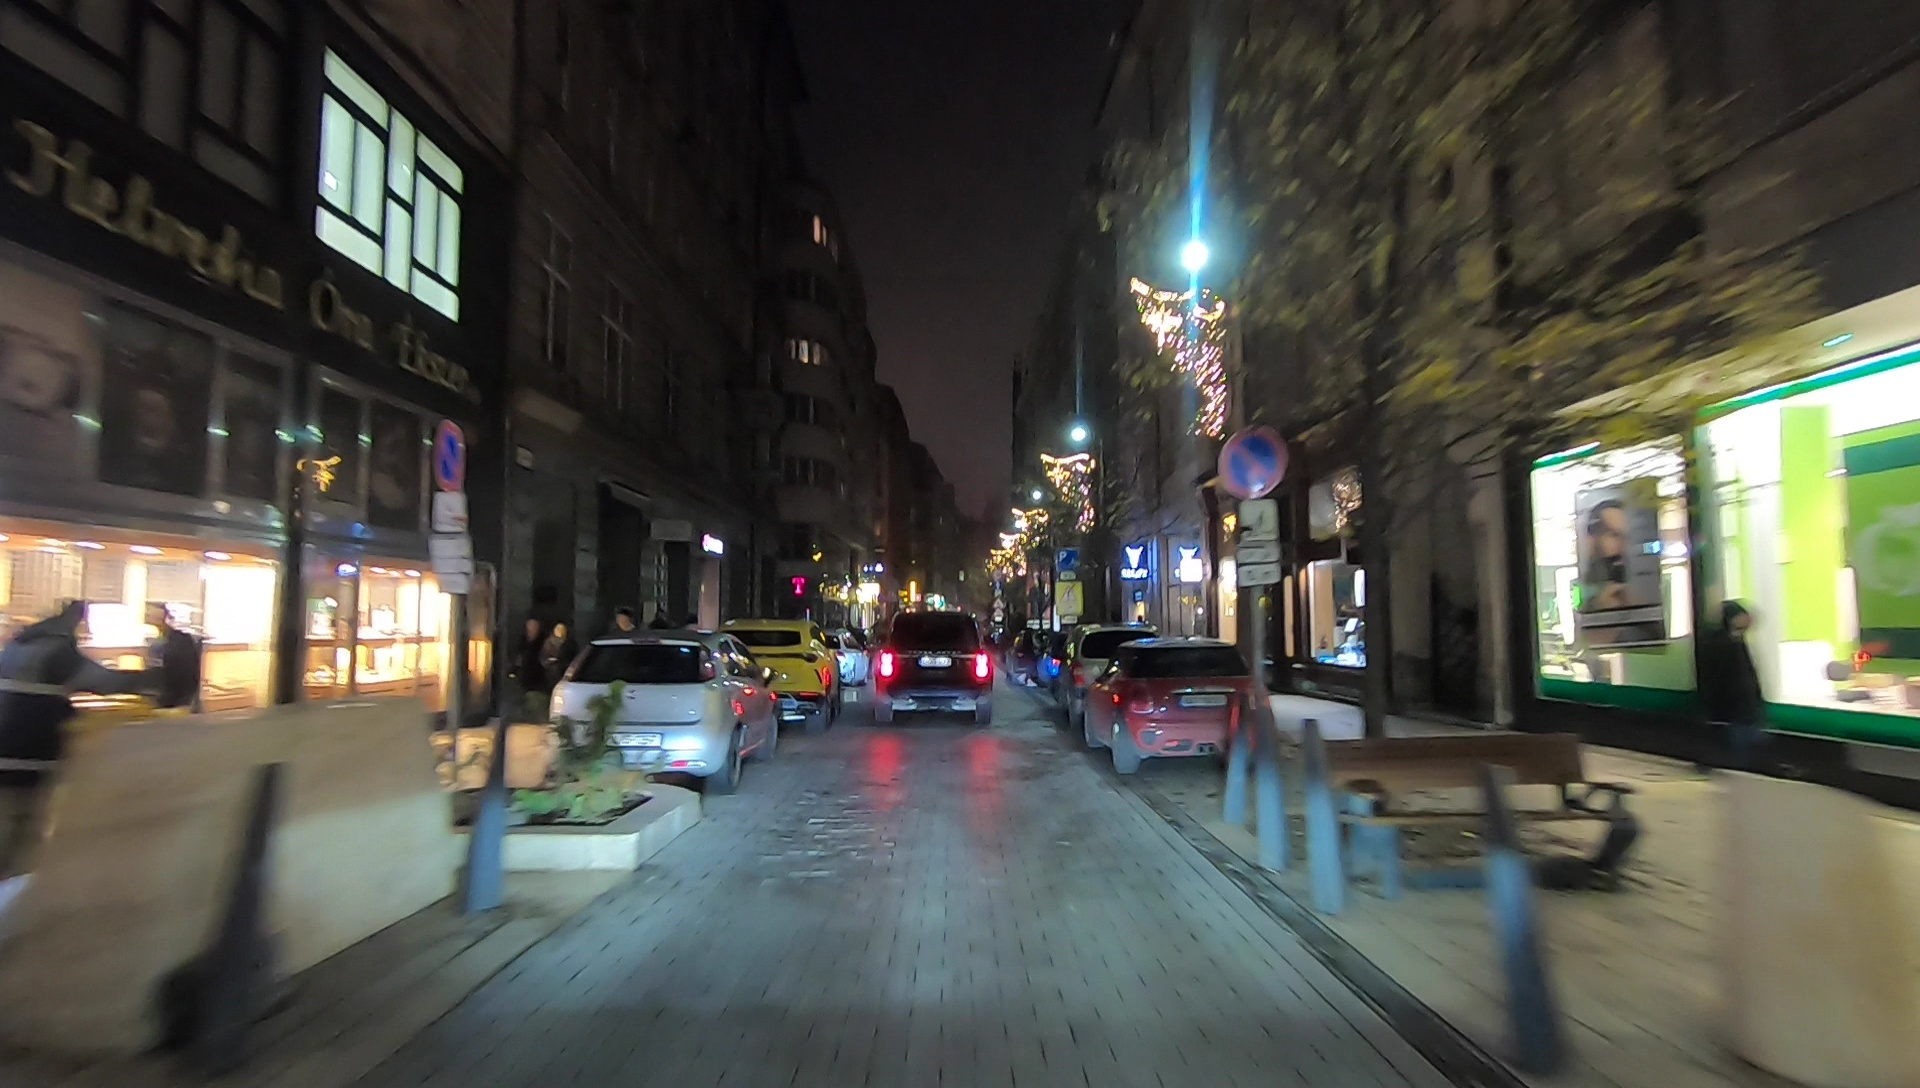person: (4, 606, 125, 874), (1699, 602, 1773, 778), (541, 623, 576, 730), (512, 615, 543, 724)
